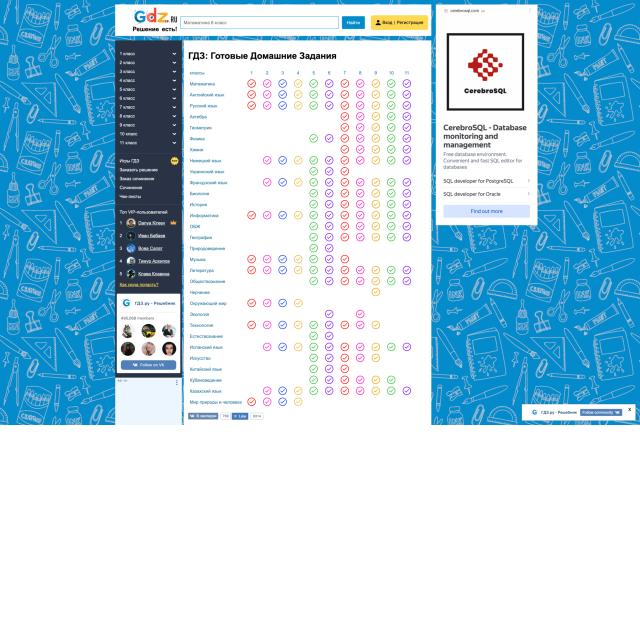content: (184, 39, 432, 413)
input: (180, 16, 340, 30)
logo: (131, 6, 178, 34)
